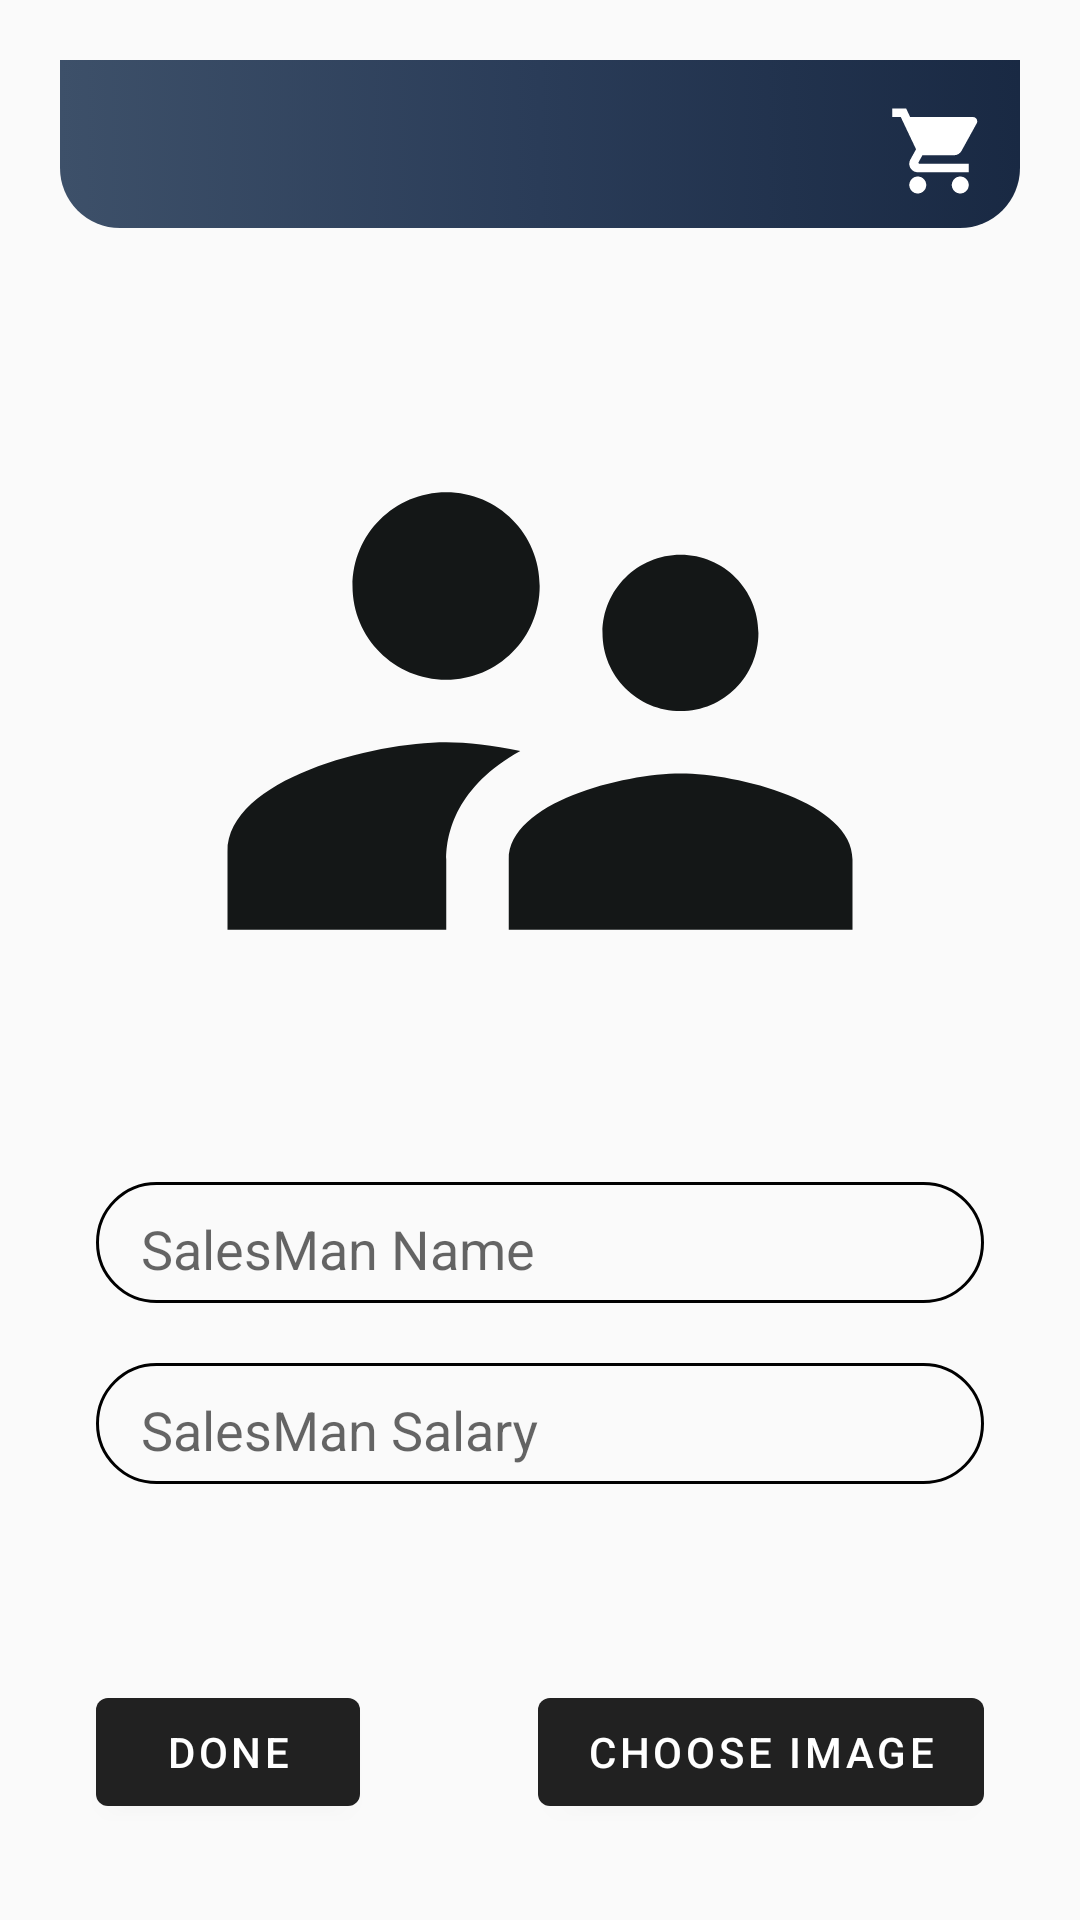

Named icons in this screenshot (1080*1920) and their bounding boxes, (x1, y1, x2, y2):
cart: (892, 108, 978, 194)
